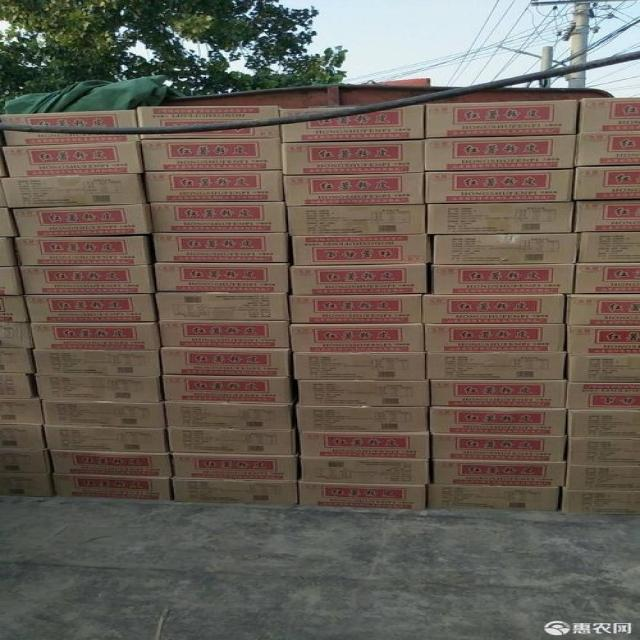Carton: (154, 233, 639, 459), (146, 139, 639, 294), (3, 174, 140, 209), (15, 236, 145, 268), (297, 432, 429, 460), (32, 322, 156, 351), (47, 450, 172, 478), (35, 376, 161, 402), (566, 464, 639, 492)
